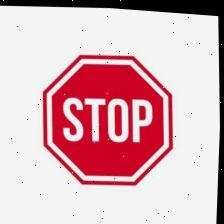Stop: (32, 42, 184, 196)
